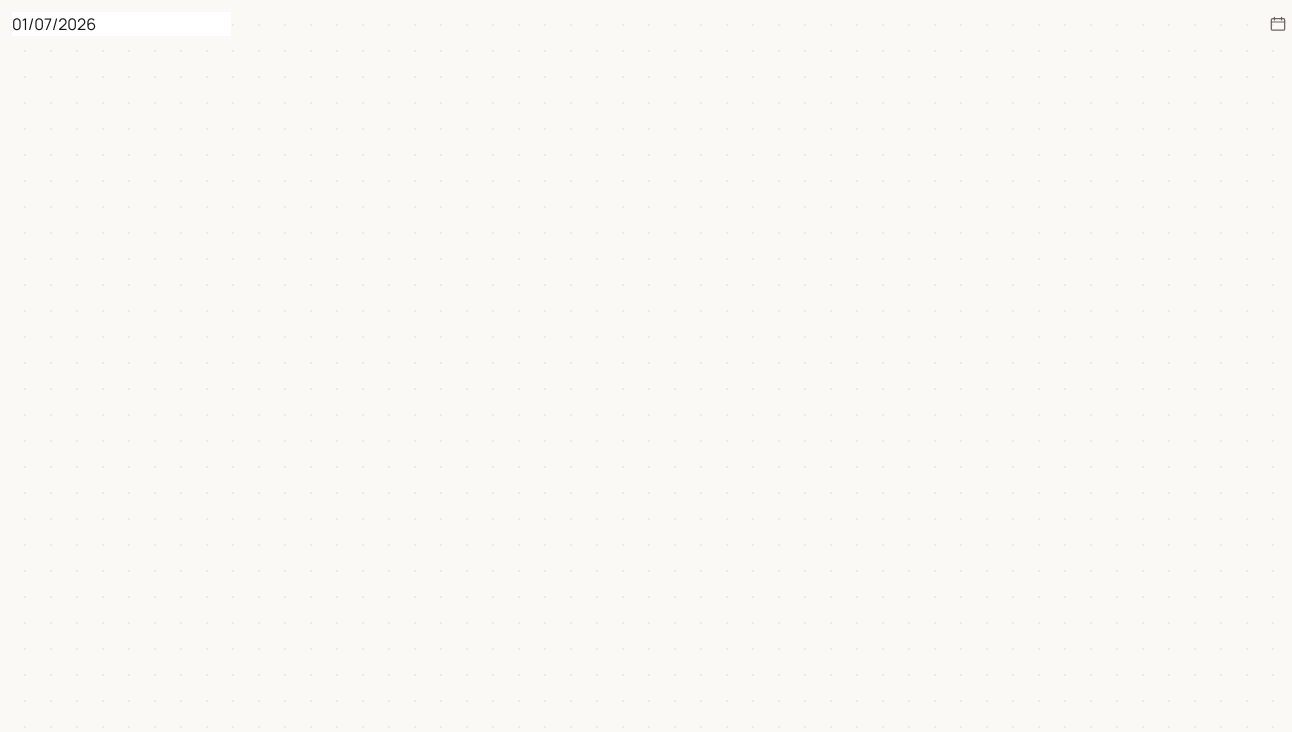
Test: DateInput › reverts an incomplete date back to the last saved value on blur
Replace the text in the field named "Applied date" with "0812" at [122, 24], box 12,12 -> 231,36
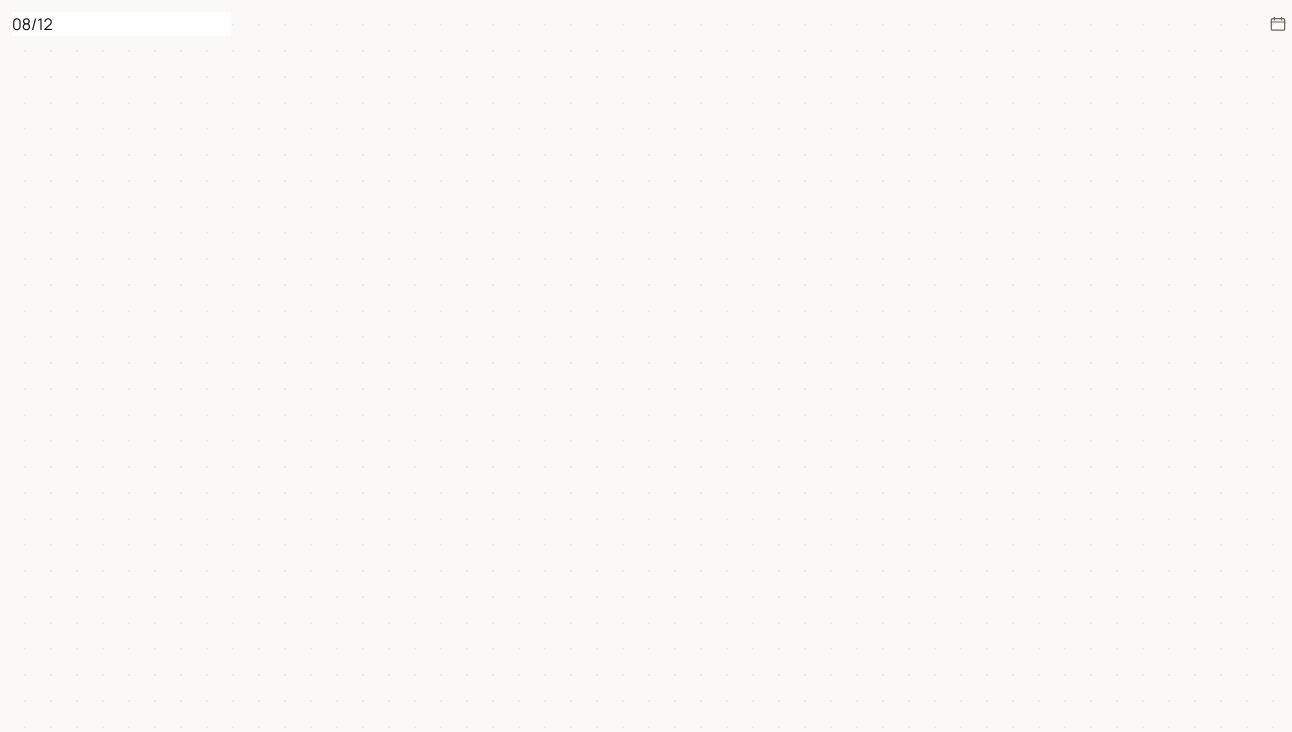
Leave the field named "Applied date", box 12,12 -> 231,36
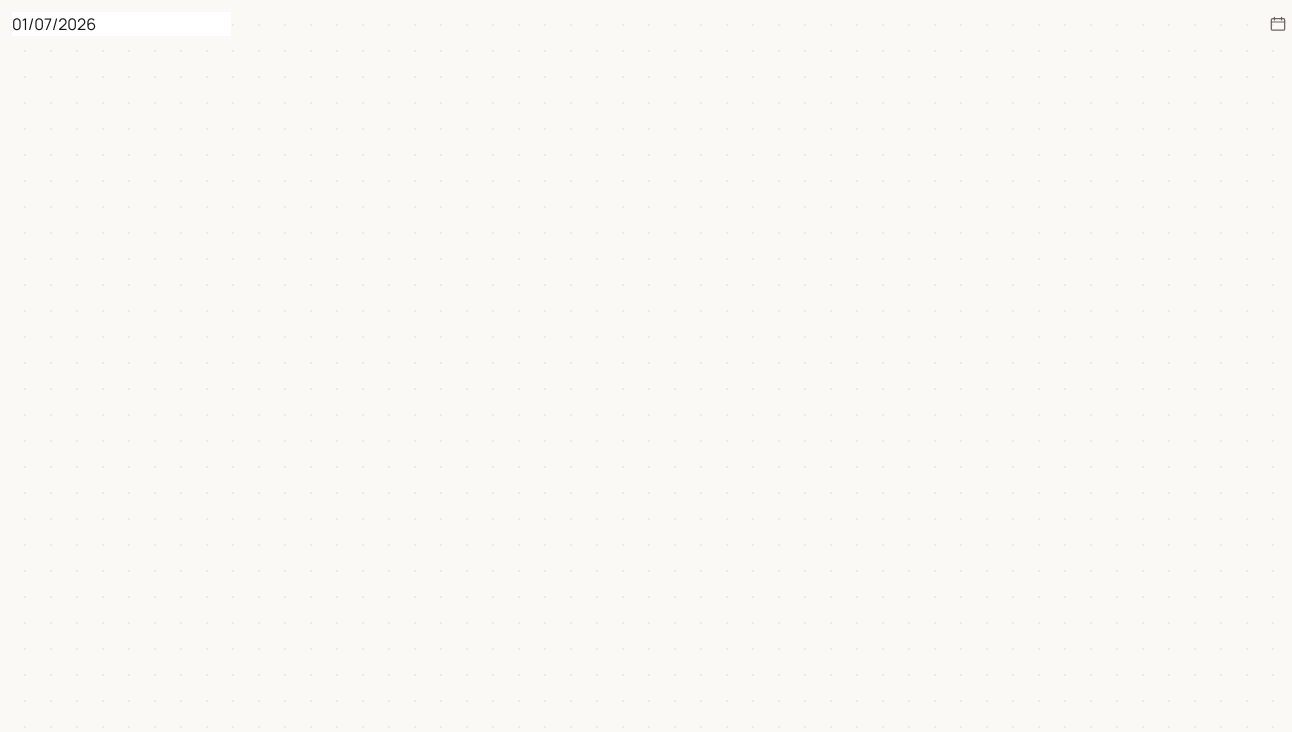
Result: the field named "Applied date" holds "01/07/2026" at 12,12 -> 231,36
